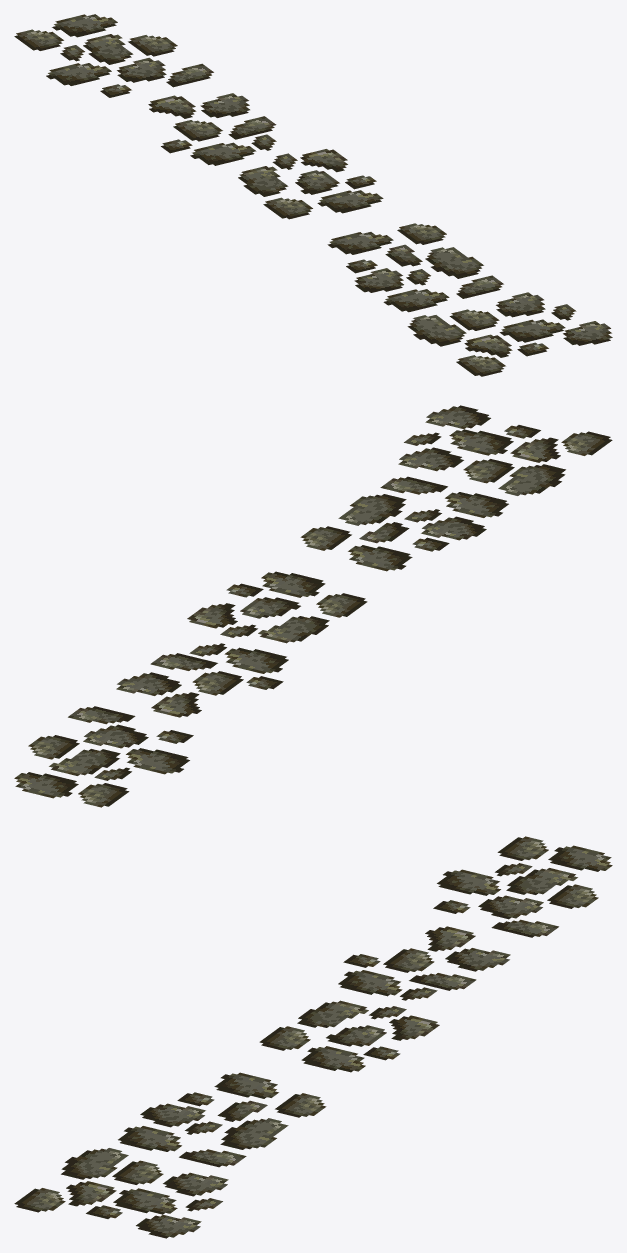
The model's file is ObjMD_River_Blocks_A.FBX.
3 views of the same model, one above another, from view 1: azimuth 30°, elevation 25°; view 2: azimuth 150°, elevation 25°; view 3: azimuth 330°, elevation 25° (orthographic). The views are drawn at different scales.
Parts seen in each view (by area): view 1: ObjMD_River_Blocks_D, ObjMD_River_Blocks_C, ObjMD_River_Blocks_B, ObjMD_River_Blocks_A, ObjMD_River_Blocks_E; view 2: ObjMD_River_Blocks_D, ObjMD_River_Blocks_C, ObjMD_River_Blocks_B, ObjMD_River_Blocks_A, ObjMD_River_Blocks_E; view 3: ObjMD_River_Blocks_D, ObjMD_River_Blocks_C, ObjMD_River_Blocks_B, ObjMD_River_Blocks_A, ObjMD_River_Blocks_E.
Boxes of the visible parts, <box> form: ObjMD_River_Blocks_D: <box>407,292,612,376</box>; ObjMD_River_Blocks_C: <box>14,14,213,97</box>; ObjMD_River_Blocks_B: <box>327,223,503,312</box>; ObjMD_River_Blocks_A: <box>238,149,383,219</box>; ObjMD_River_Blocks_E: <box>148,93,276,165</box>; ObjMD_River_Blocks_D: <box>398,405,612,495</box>; ObjMD_River_Blocks_C: <box>14,706,193,807</box>; ObjMD_River_Blocks_B: <box>300,476,508,571</box>; ObjMD_River_Blocks_A: <box>187,571,367,643</box>; ObjMD_River_Blocks_E: <box>116,643,288,717</box>; ObjMD_River_Blocks_D: <box>14,1148,228,1238</box>; ObjMD_River_Blocks_C: <box>433,836,612,937</box>; ObjMD_River_Blocks_B: <box>118,1072,326,1167</box>; ObjMD_River_Blocks_A: <box>259,1000,439,1072</box>; ObjMD_River_Blocks_E: <box>338,926,510,1000</box>.
Size of the model in its own units: 247 by 1.69e-14 by 1215.
